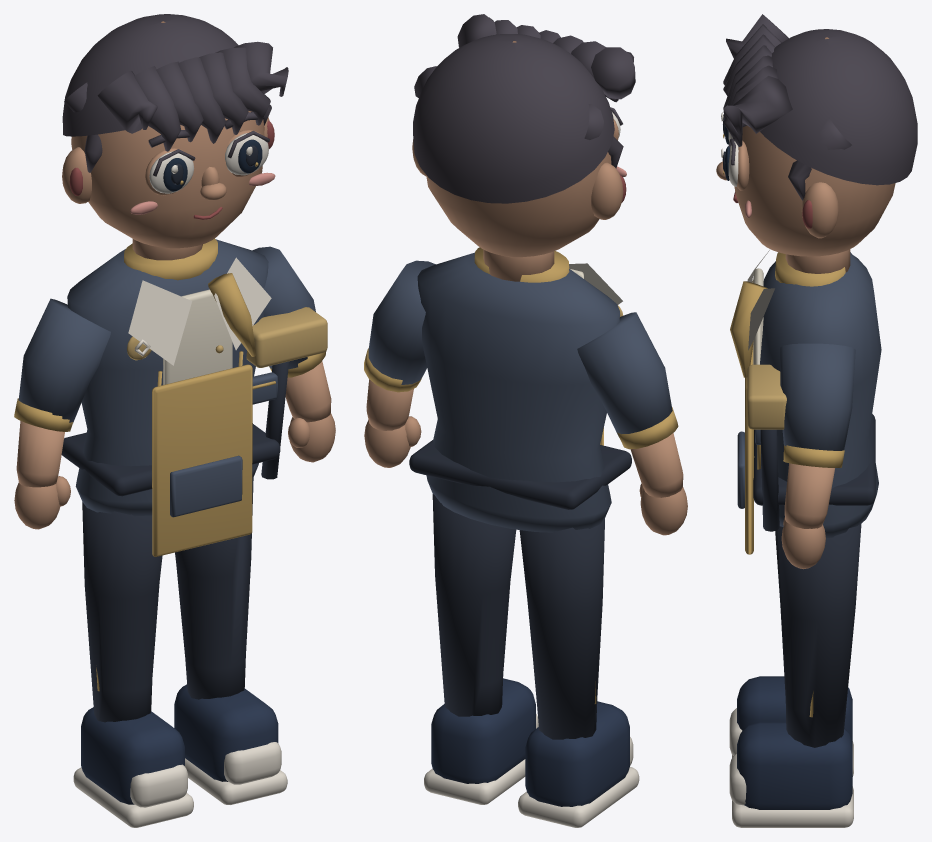
File: xingyin-characters-v1__elite_iron_smith.glb
The picture shows the model from 3 angles, left to right: view 1: azimuth 30°, elevation 25°; view 2: azimuth 150°, elevation 25°; view 3: azimuth 270°, elevation 25°; orthographic projection.
Parts seen in each view (by area): view 1: figure.021; view 2: figure.021; view 3: figure.021.
Part boxes in pixels (left/top/right/bottom): figure.021: left=14, top=14, right=335, bottom=827; figure.021: left=364, top=14, right=687, bottom=827; figure.021: left=716, top=14, right=917, bottom=827.
Bounding box in the file's own units: 1.15 × 2.63 × 0.6376.
